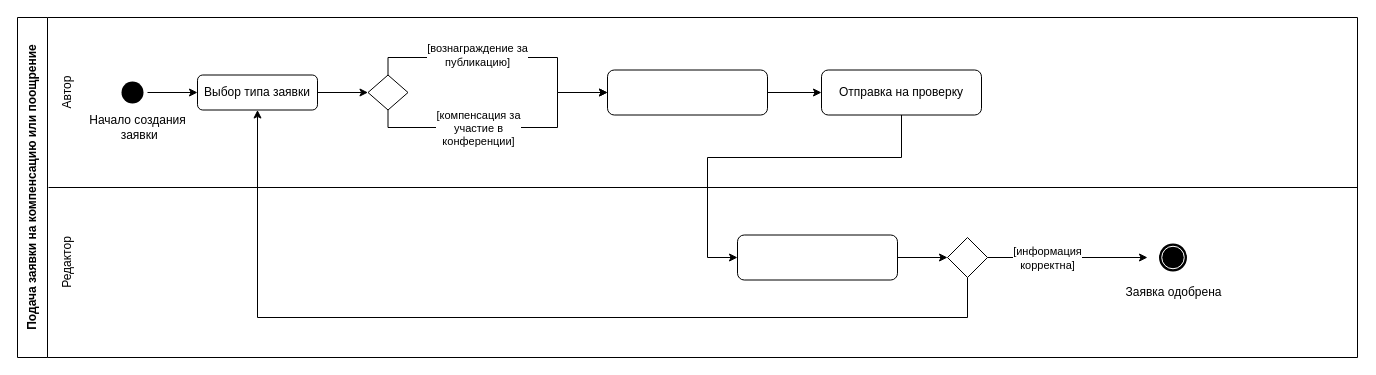
Image size: 1376x375. Some labels were removed from this diagram. Each missing label, with the centre of its shape:
Заполнение требуемой информации: (687,92)
Проверка информации о заявке: (817,257)
